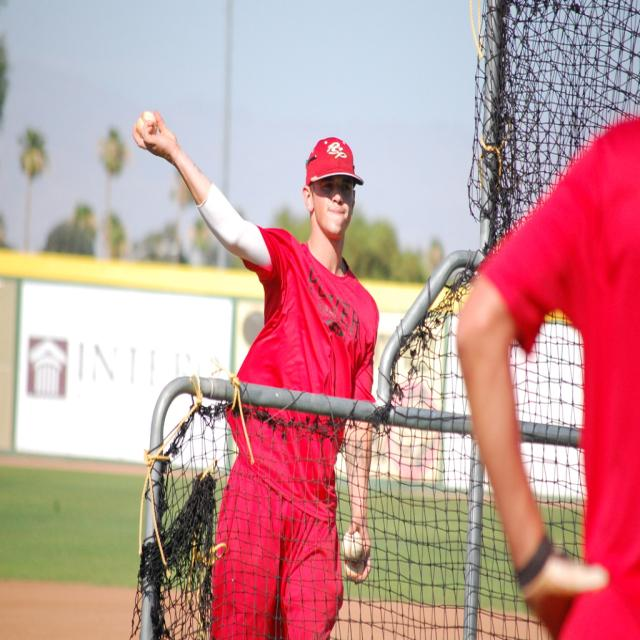Ball: (341, 532, 364, 562), (138, 110, 158, 135), (346, 561, 366, 584)
